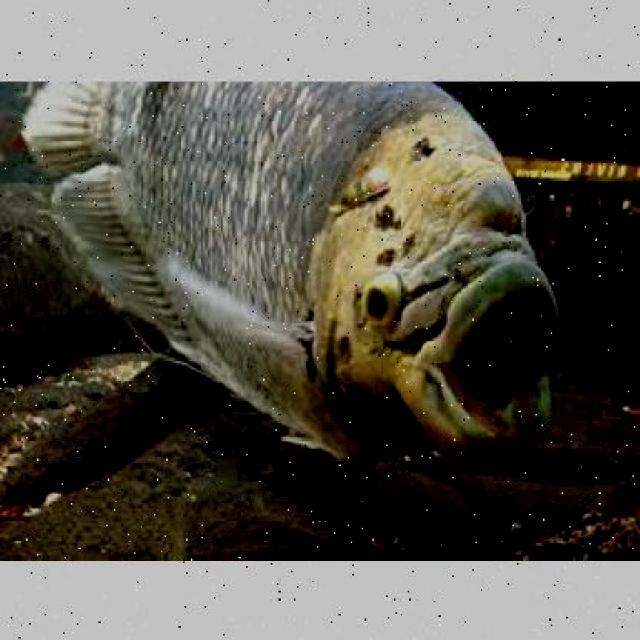gurame: (24, 80, 570, 456)
